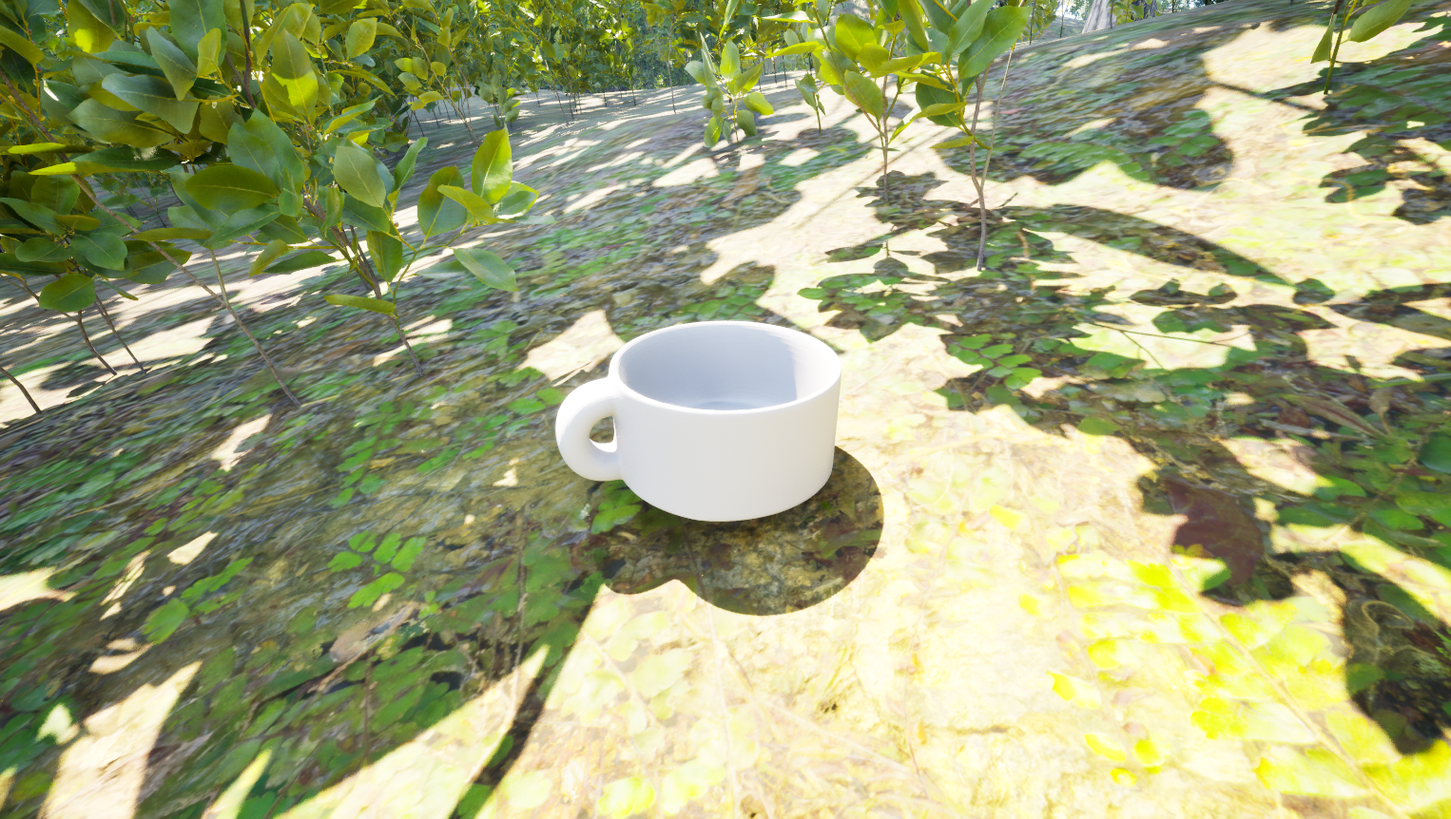Teacup: (531, 311, 848, 540)
